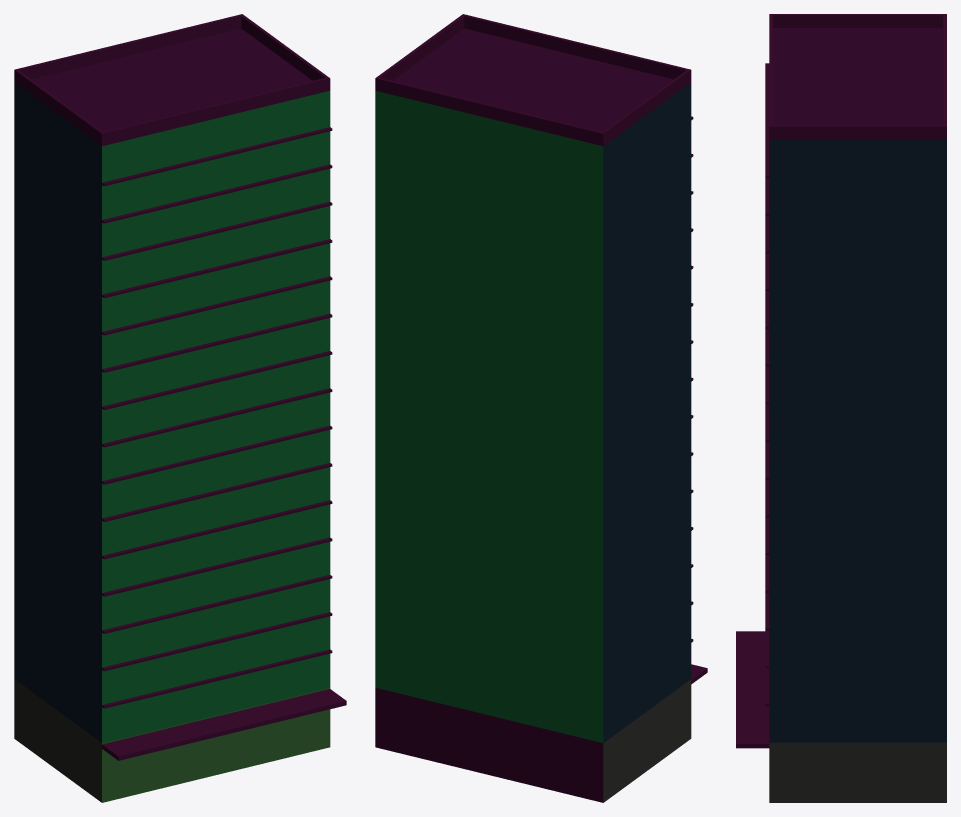
File: slab_a.lod2.glb
3 views of the same model, side by side, from view 1: azimuth 30°, elevation 25°; view 2: azimuth 150°, elevation 25°; view 3: azimuth 270°, elevation 25° (orthographic).
Parts seen in each view (by area): view 1: slab_a.lod2; view 2: slab_a.lod2; view 3: slab_a.lod2.
Boxes of the visible parts, left/top/right/bottom form: slab_a.lod2: left=14, top=14, right=346, bottom=802; slab_a.lod2: left=375, top=14, right=707, bottom=802; slab_a.lod2: left=736, top=14, right=946, bottom=802.
Bounding box in the file's own units: 19.2 × 53.8 × 15.2.
